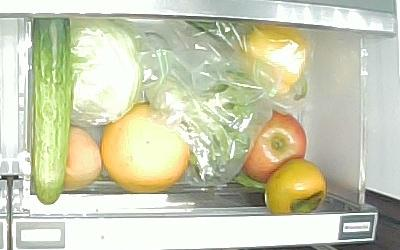apple: (242, 107, 308, 183)
broccoli_vinyl: (144, 66, 262, 183)
cucumber: (31, 18, 70, 206)
grapefruit: (100, 104, 191, 194)
lettuce_vinyl: (70, 19, 141, 125)
paprika_vinyl: (240, 25, 310, 102)
peach: (63, 125, 102, 190)
persimmon: (264, 157, 327, 214)
